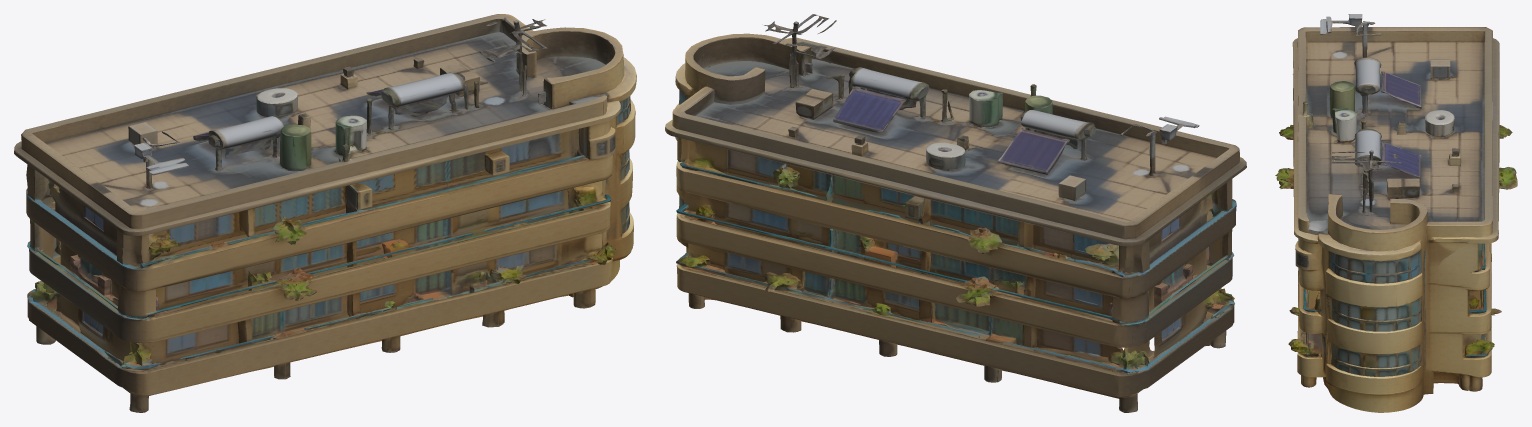
The model's file is r3_bauhaus_long.glb.
3 views of the same model, side by side, from view 1: azimuth 30°, elevation 25°; view 2: azimuth 150°, elevation 25°; view 3: azimuth 270°, elevation 25° (orthographic). The views are drawn at different scales.
Visible parts, largest first — view 1: geometry_0; view 2: geometry_0; view 3: geometry_0.
Boxes of the visible parts, box(x1,y1,x2,y2) form: geometry_0: box(14, 14, 636, 412); geometry_0: box(665, 14, 1246, 412); geometry_0: box(1275, 14, 1517, 412).
Bounding box in the file's own units: 24 × 11 × 11.
1 material, 1 textured.
